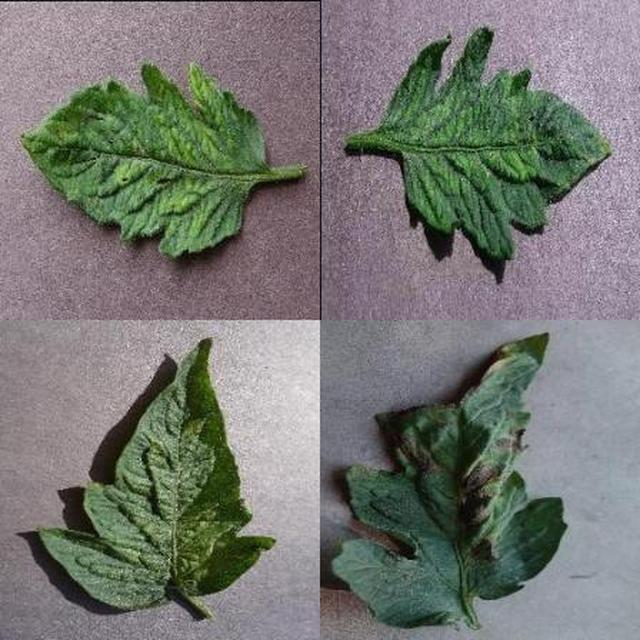Mosaic Virus Leaf: (205, 202, 640, 640)
